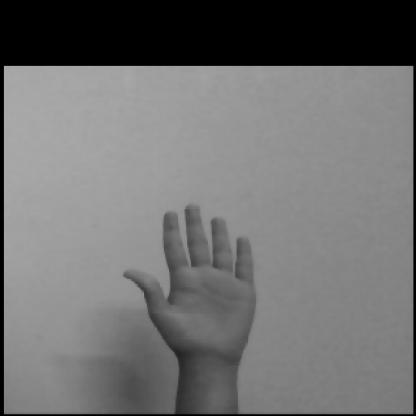palm: (105, 196, 294, 390)
